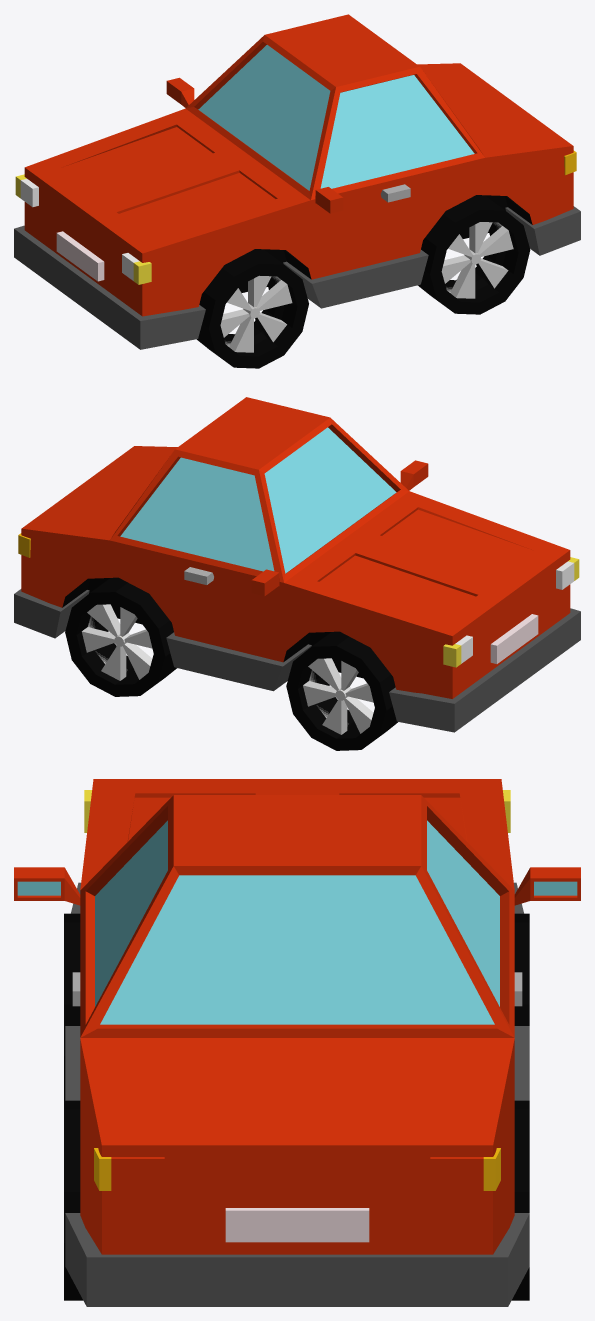
File: car1.fbx
3 views of the same model, one above another, from view 1: azimuth 30°, elevation 25°; view 2: azimuth 150°, elevation 25°; view 3: azimuth 270°, elevation 25° (orthographic). The views are drawn at different scales.
Visible parts, largest first — view 1: Car.001; view 2: Car.001; view 3: Car.001.
Part boxes in pixels (left/top/right/bottom): Car.001: left=14, top=14, right=580, bottom=368; Car.001: left=14, top=397, right=580, bottom=750; Car.001: left=14, top=779, right=580, bottom=1306.
Size of the model in its own units: 3.25 by 1.62 by 2.08.
